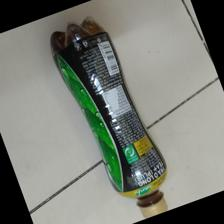Olong: (48, 15, 174, 224)
